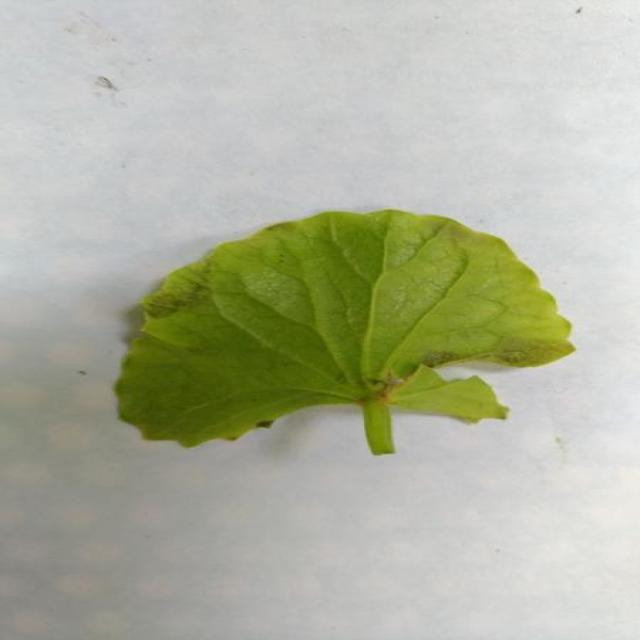defectedbhrami: (117, 210, 573, 454)
